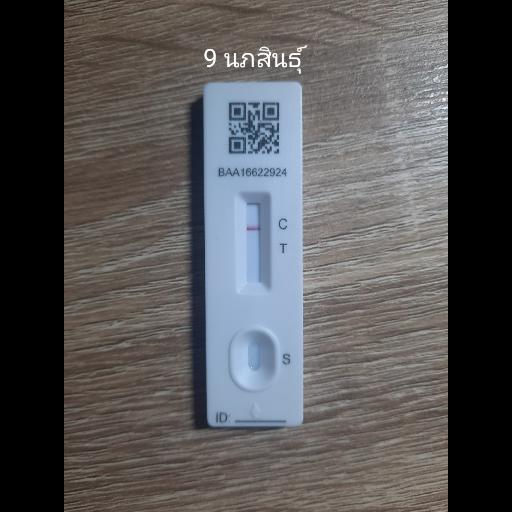Neg: (203, 84, 301, 428)
